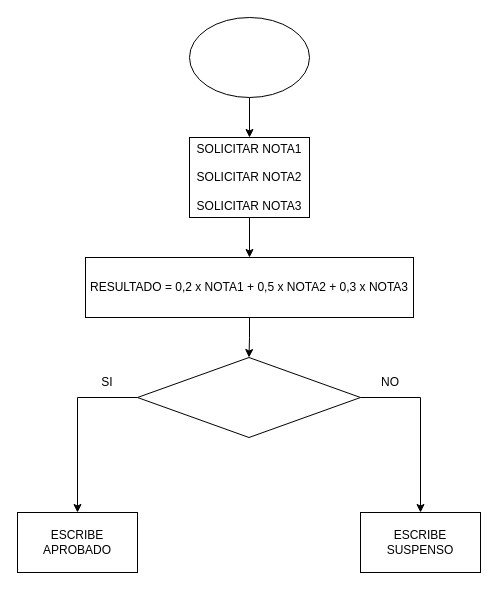
The diagram is 498 pixels wide and 590 high, and some of its shapes have lost their labels. Each missing label, with the centre of its shape:
INICIO: (249,57)
RESULTADO > que 5: (248,397)
